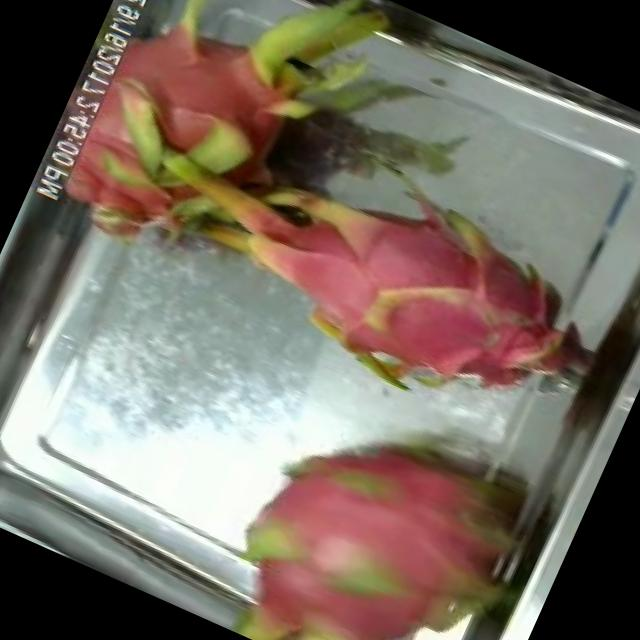Fruit: (65, 0, 344, 228)
